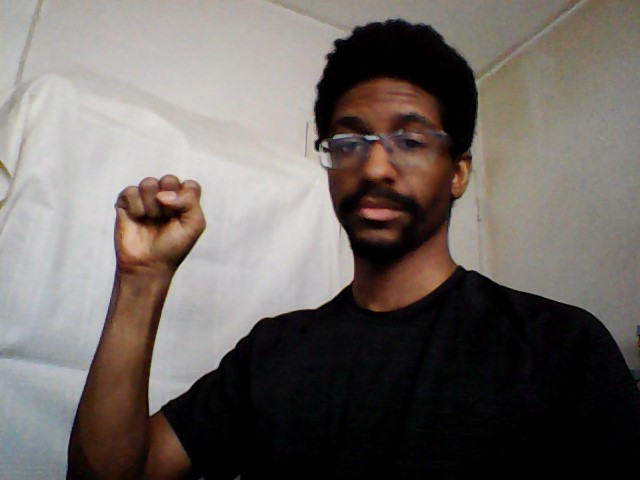s: (108, 170, 212, 285)
